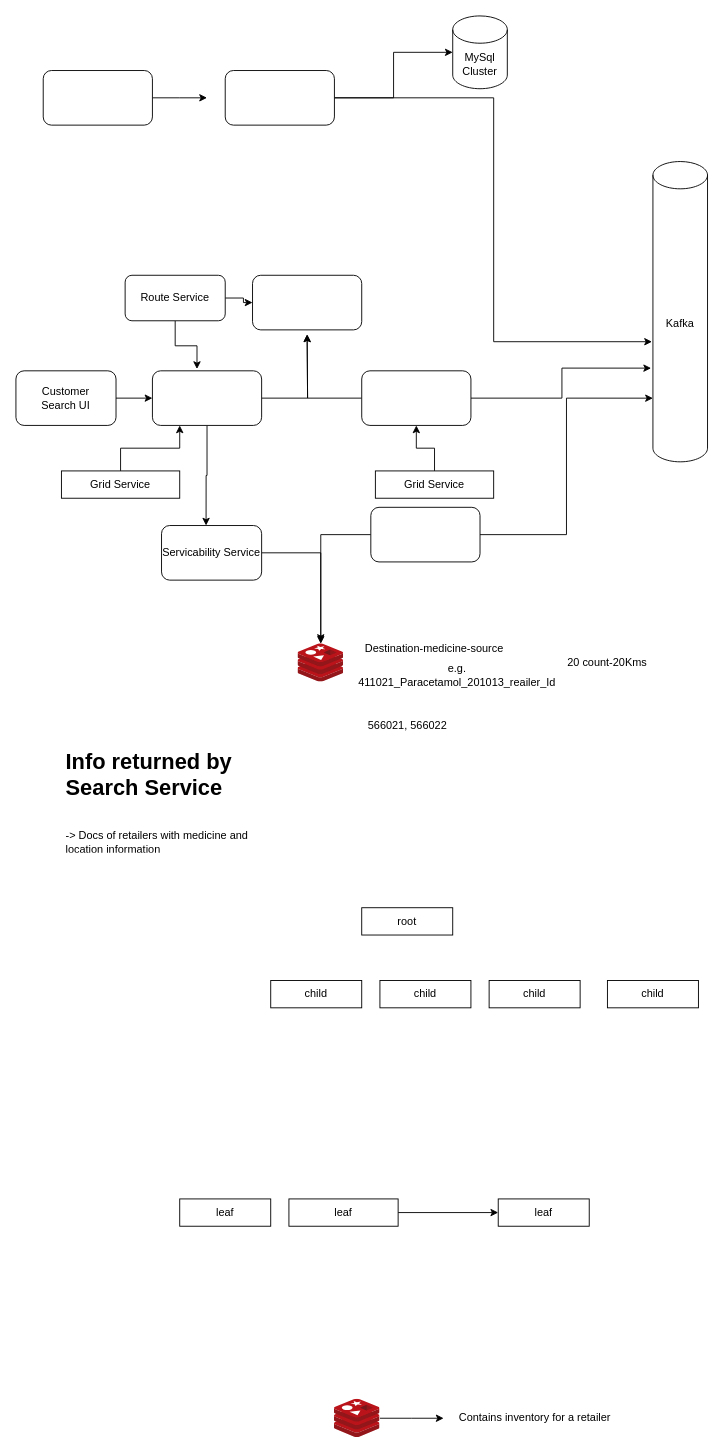
Image size: 723x1453. Some labels were removed from this diagram. The centre of each missing label's shape, as x and y in pixels:
"Mongo/Elastic" belongs at (307,302).
"Retailer Inventory Management Service" belongs at (279,97).
"Retailer UI" belongs at (97,97).
"Search Consumer" belongs at (416,397).
"Search Service" belongs at (207,397).
"Servicability consumer" belongs at (425,534).
